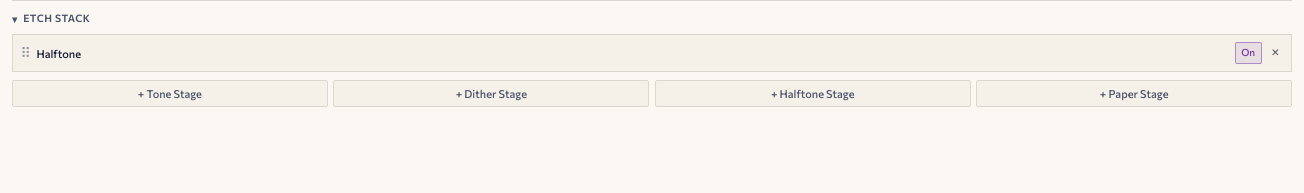
it: EtchStackRack › the Halftone body exposes frequency, angle, and shape (round/diamond) controls
The width and height of the screenshot is (1304, 193).
Click the button with test id "etch-stage-expand".
click(59, 53)  # box x1=36 y1=44 x2=1229 y2=62
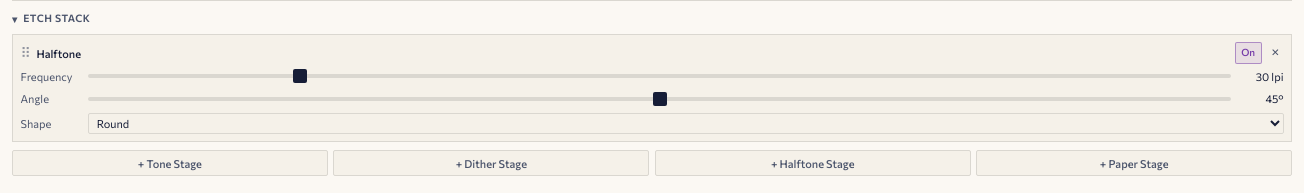
Check: the slider with test id "halftone-frequency" is shown, box x1=88 y1=74 x2=1231 y2=78
Check: the slider with test id "halftone-angle" is shown, box x1=88 y1=97 x2=1231 y2=101
